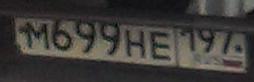character: (74, 15, 97, 54), (99, 16, 121, 56), (25, 21, 51, 53), (123, 28, 148, 61), (51, 17, 74, 52), (150, 27, 172, 63), (218, 24, 236, 56), (198, 24, 215, 55), (180, 24, 197, 54)
